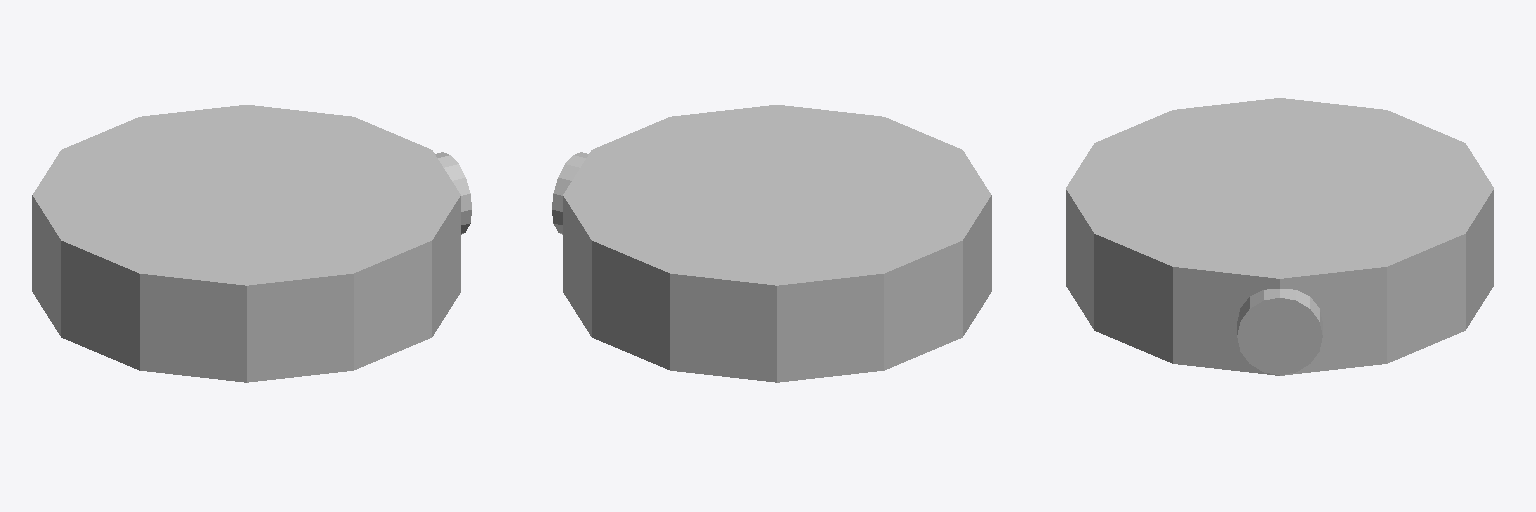
File: platform.obj
The picture shows the model from 3 angles: view 1: azimuth 30°, elevation 25°; view 2: azimuth 150°, elevation 25°; view 3: azimuth 270°, elevation 25°; orthographic projection.
Parts seen in each view (by area): view 1: 柱体.003; view 2: 柱体.003; view 3: 柱体.003.
Boxes of the visible parts, <box> form: 柱体.003: <box>32,105,471,382</box>; 柱体.003: <box>552,105,991,382</box>; 柱体.003: <box>1066,98,1493,375</box>.
Bounding box in the file's own units: 0.84 × 0.26 × 0.8.